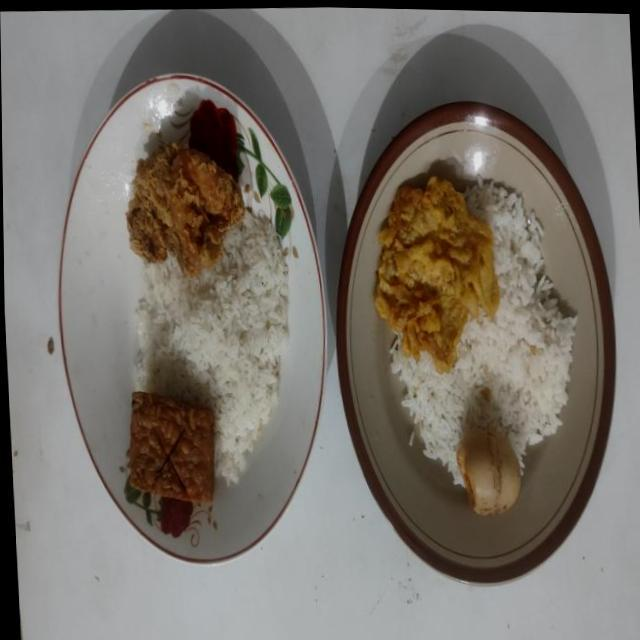nasi_putih: (389, 180, 576, 485), (134, 216, 289, 484)
tempe_goreng: (127, 391, 214, 502)
